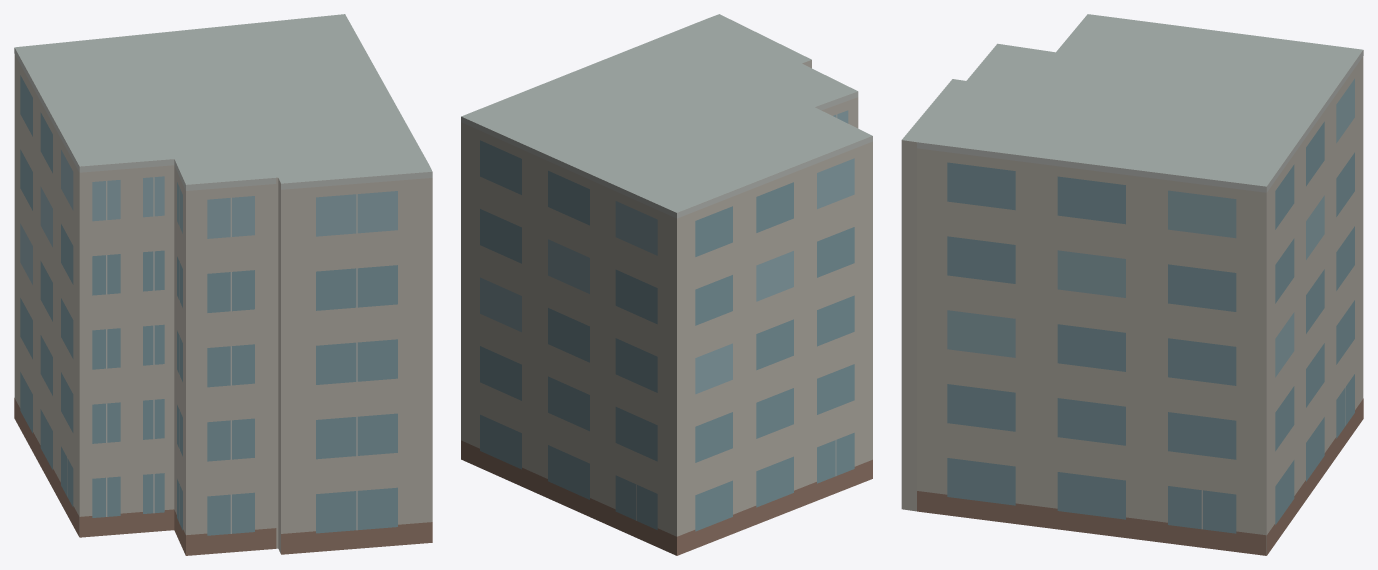
File: survey-upis-32880213.glb
3 renders of one model, left to right at view 1: azimuth 30°, elevation 25°; view 2: azimuth 150°, elevation 25°; view 3: azimuth 270°, elevation 25°, orthographic. The views are drawn at different scales.
Parts seen in each view (by area): view 1: survey-upis-32880213.tmp; view 2: survey-upis-32880213.tmp; view 3: survey-upis-32880213.tmp.
Boxes of the visible parts, <box> form: survey-upis-32880213.tmp: <box>14,14,432,555</box>; survey-upis-32880213.tmp: <box>461,14,872,555</box>; survey-upis-32880213.tmp: <box>901,14,1363,555</box>.
Size of the model in its own units: 14.75 by 14.7 by 16.68.
